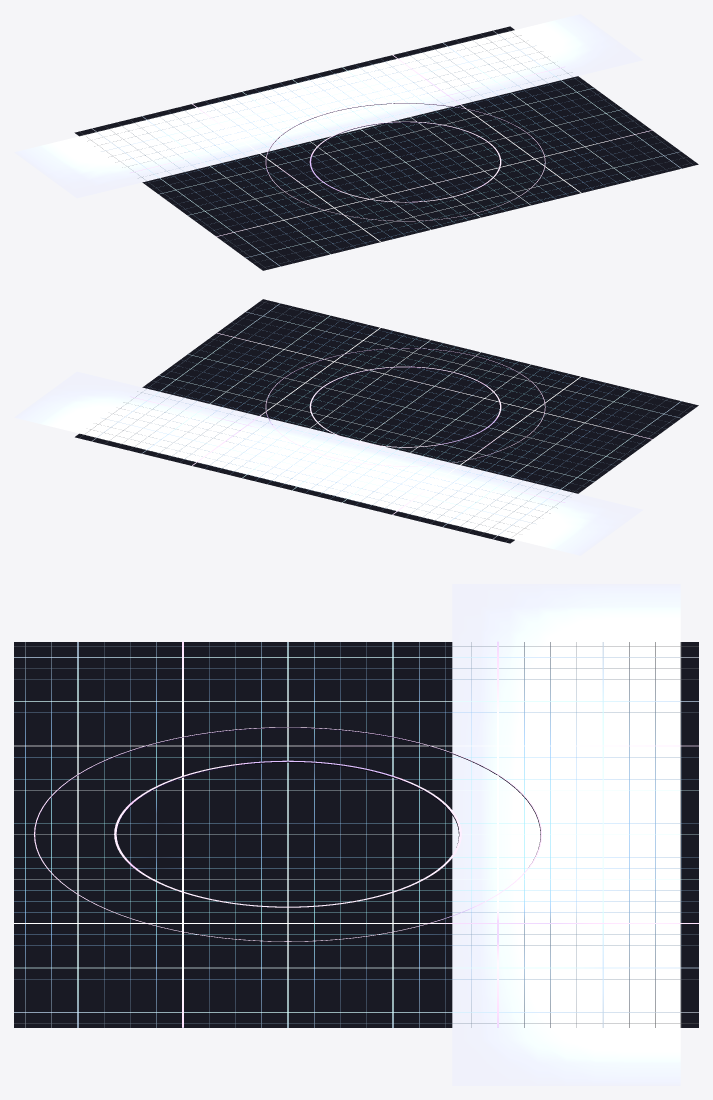
Rendered from BG_NeonGrid.glb.
3 views of the same model, one above another, from view 1: azimuth 30°, elevation 25°; view 2: azimuth 150°, elevation 25°; view 3: azimuth 270°, elevation 25° (orthographic). The views are drawn at different scales.
Visible parts, largest first — view 1: BG_NeonGrid_Floor, BG_NeonGrid_Horizon, BG_NeonGrid_GridLines_Minor, BG_GridLines, BG_GridLines_Accent, BG_EnergyPulse; view 2: BG_NeonGrid_Floor, BG_NeonGrid_Horizon, BG_NeonGrid_GridLines_Minor, BG_GridLines, BG_GridLines_Accent, BG_EnergyPulse; view 3: BG_NeonGrid_Floor, BG_NeonGrid_Horizon, BG_NeonGrid_GridLines_Minor, BG_GridLines, BG_EnergyPulse, BG_GridLines_Accent.
Part boxes in pixels (x1,y1,x2,y2): BG_NeonGrid_Floor: [74, 26, 698, 270]; BG_NeonGrid_Horizon: [14, 14, 642, 198]; BG_NeonGrid_GridLines_Minor: [79, 28, 693, 269]; BG_GridLines: [92, 30, 681, 266]; BG_GridLines_Accent: [130, 55, 652, 241]; BG_EnergyPulse: [265, 103, 545, 221]; BG_NeonGrid_Floor: [75, 299, 698, 543]; BG_NeonGrid_Horizon: [14, 371, 643, 555]; BG_NeonGrid_GridLines_Minor: [79, 300, 693, 541]; BG_GridLines: [92, 303, 681, 538]; BG_GridLines_Accent: [130, 327, 652, 514]; BG_EnergyPulse: [265, 348, 545, 466]; BG_NeonGrid_Floor: [14, 642, 698, 1027]; BG_NeonGrid_Horizon: [452, 584, 680, 1085]; BG_NeonGrid_GridLines_Minor: [14, 642, 698, 1027]; BG_GridLines: [14, 642, 698, 1027]; BG_EnergyPulse: [34, 727, 541, 941]; BG_GridLines_Accent: [14, 641, 698, 1027].
Bounding box in the file's own units: 26 × 0.02 × 15.
